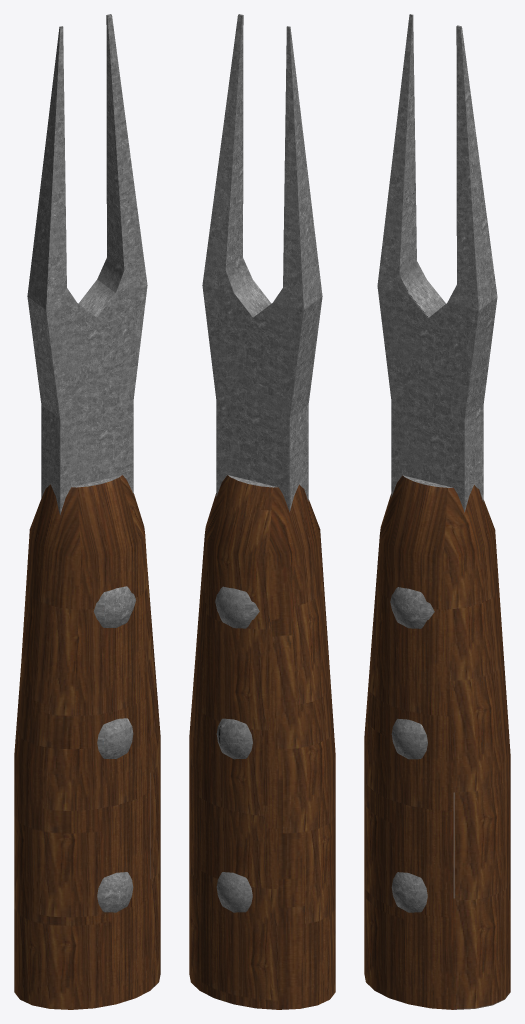
The model's file is MeatFork.fbx.
3 renders of one model, left to right at view 1: azimuth 30°, elevation 25°; view 2: azimuth 150°, elevation 25°; view 3: azimuth 330°, elevation 25°, orthographic.
Visible parts, largest first — view 1: pCylinder2; view 2: pCylinder2; view 3: pCylinder2.
Boxes of the visible parts, x1,y1,x2,y2 form: pCylinder2: (14,14,160,1009); pCylinder2: (189,14,335,1009); pCylinder2: (364,14,510,1009).
Bounding box in the file's own units: 0.9228 × 6.29 × 0.7466.
